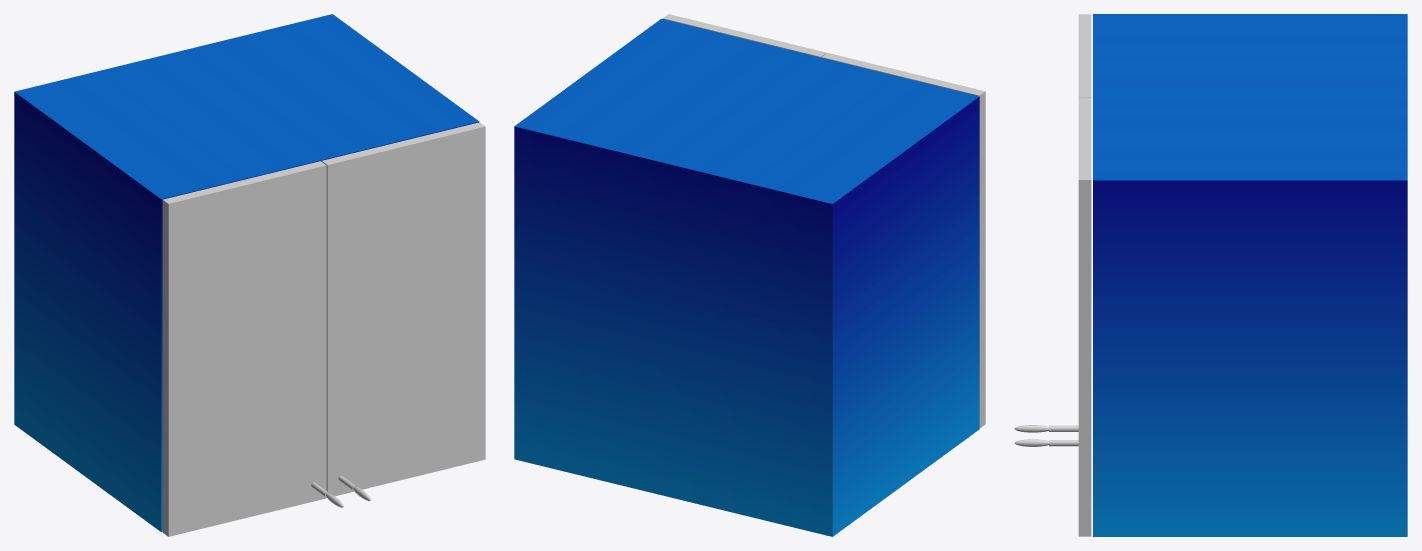
Rendered from sh-lp-mobiletto-specchio-blu.glb.
3 renders of one model, left to right at view 1: azimuth 30°, elevation 25°; view 2: azimuth 150°, elevation 25°; view 3: azimuth 270°, elevation 25°, orthographic. The views are drawn at different scales.
Parts seen in each view (by area): view 1: Sphere07_1, Box29_6; view 2: Box29_6, Sphere07_1; view 3: Box29_6, Sphere07_1.
Boxes of the visible parts, left/top/right/bottom form: Sphere07_1: left=162, top=122, right=485, bottom=536; Box29_6: left=14, top=14, right=479, bottom=532; Box29_6: left=514, top=18, right=979, bottom=536; Sphere07_1: left=662, top=14, right=985, bottom=428; Box29_6: left=1093, top=14, right=1407, bottom=536; Sphere07_1: left=1014, top=14, right=1091, bottom=536.
Bounding box in the file's own units: 1 × 1 × 1.
Materials: 2 (1 with a texture image).
